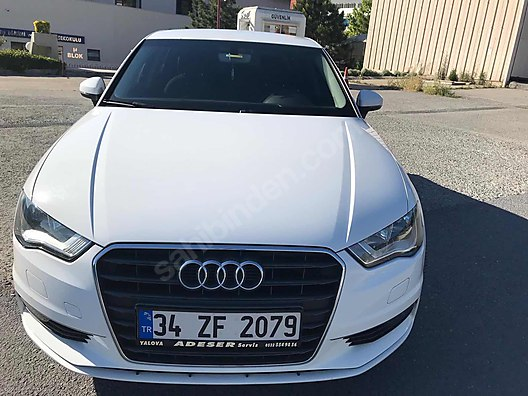audi: (166, 256, 266, 292)
